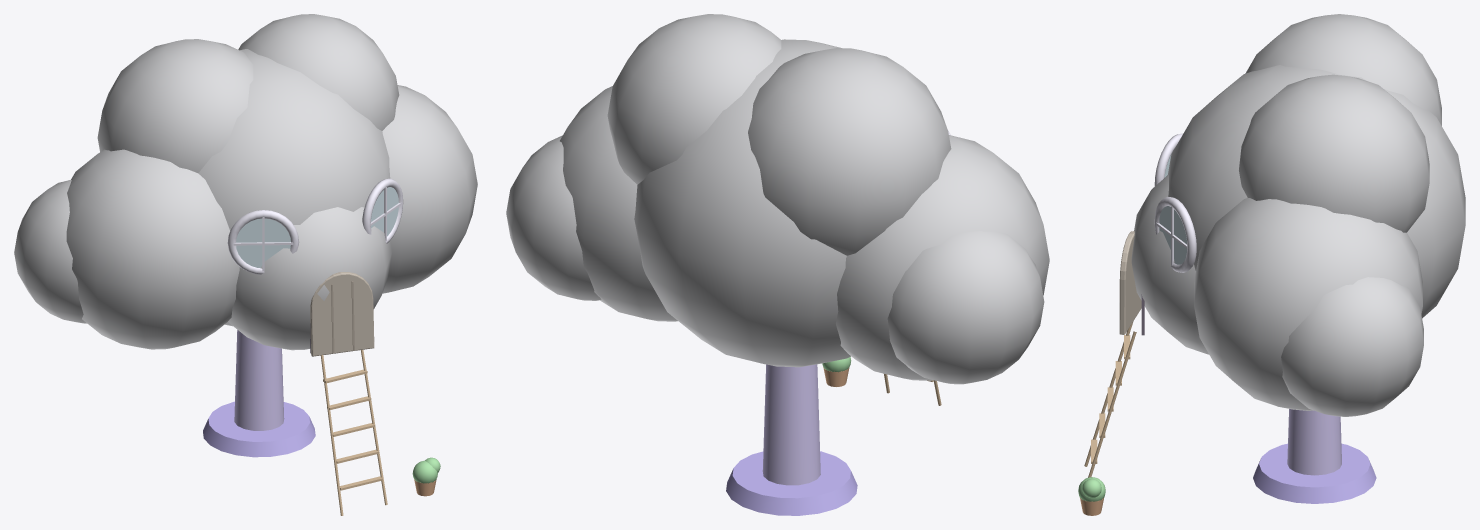
File: building_sky_L05.glb
The picture shows the model from 3 angles, left to right: view 1: azimuth 30°, elevation 25°; view 2: azimuth 150°, elevation 25°; view 3: azimuth 270°, elevation 25°; orthographic projection. The views are drawn at different scales.
Parts seen in each view (by area): view 1: Body, sky_L5; view 2: Body, sky_L5; view 3: Body, sky_L5.
Part boxes in pixels (bbox=[...]): Body: bbox=[14, 14, 477, 515]; sky_L5: bbox=[412, 457, 440, 496]; Body: bbox=[506, 14, 1049, 515]; sky_L5: bbox=[822, 357, 851, 386]; Body: bbox=[1084, 14, 1465, 503]; sky_L5: bbox=[1078, 477, 1105, 515].
Bounding box in the file's own units: 18 × 15.21 × 12.51.
